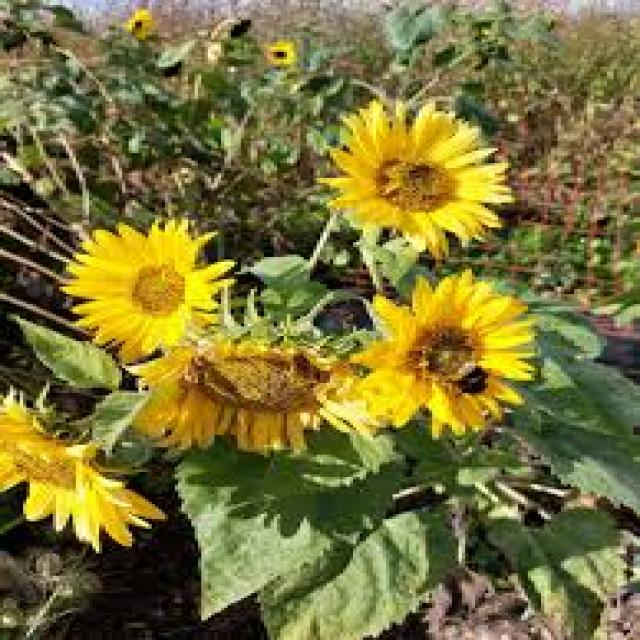sunflower: (328, 267, 548, 446), (112, 310, 370, 461), (319, 97, 526, 269), (2, 377, 174, 560), (60, 214, 246, 366), (209, 10, 257, 56), (121, 5, 165, 51), (259, 38, 308, 77)
